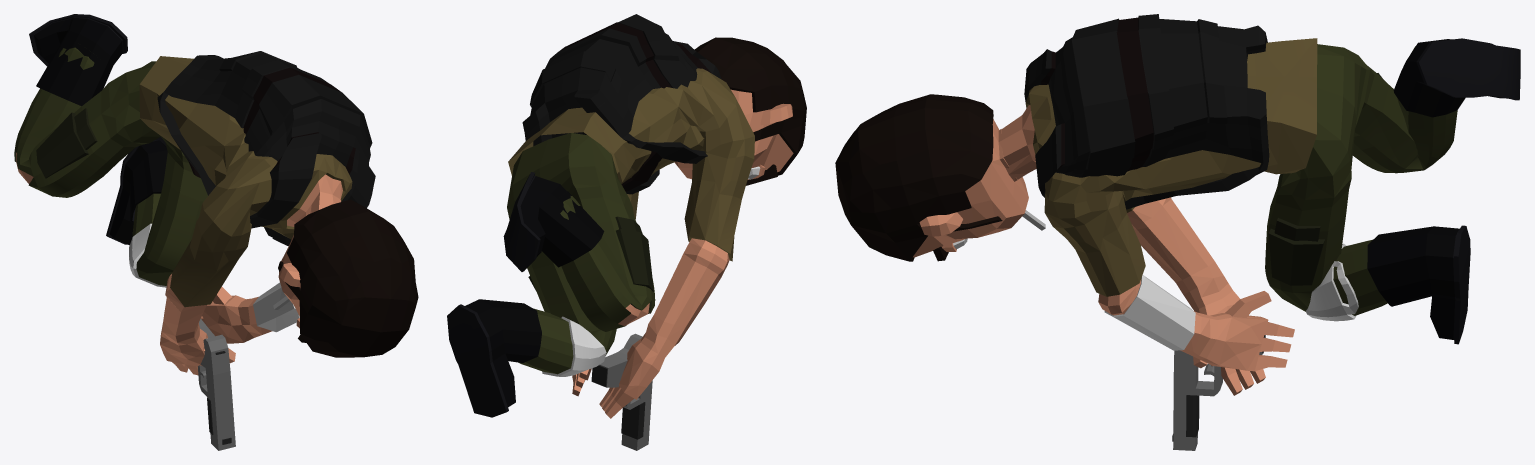
File: frame_0083.obj
3 views of the same model, side by side, from view 1: azimuth 30°, elevation 25°; view 2: azimuth 150°, elevation 25°; view 3: azimuth 270°, elevation 25° (orthographic). The views are drawn at different scales.
Visible parts, largest first — view 1: Body, Gun; view 2: Body, Gun; view 3: Body, Gun.
Part boxes in pixels (x1,y1,x2,y2): Body: (14,14,418,375); Gun: (198,319,235,450); Body: (447,14,806,418); Gun: (591,333,652,450); Body: (835,14,1520,395); Gun: (1172,335,1265,450).
Size of the model in its own units: 1.42 by 2.41 by 3.37.
